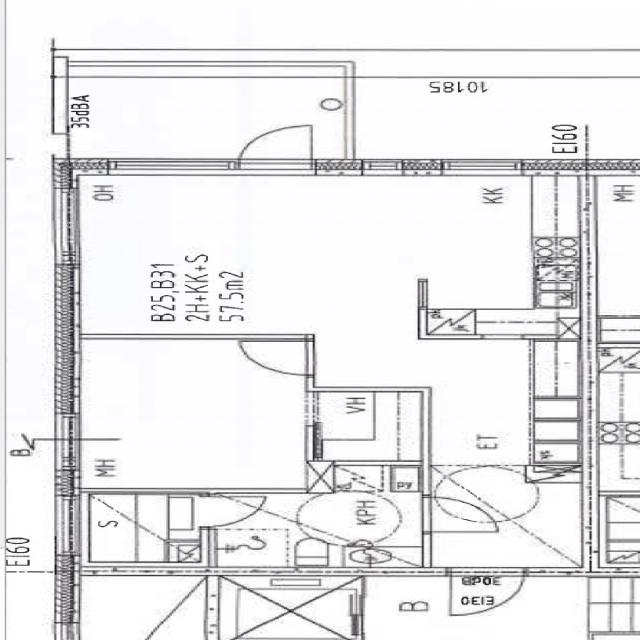door: (238, 118, 312, 176), (450, 566, 523, 617), (244, 341, 314, 374), (421, 497, 491, 530), (208, 496, 274, 526)
